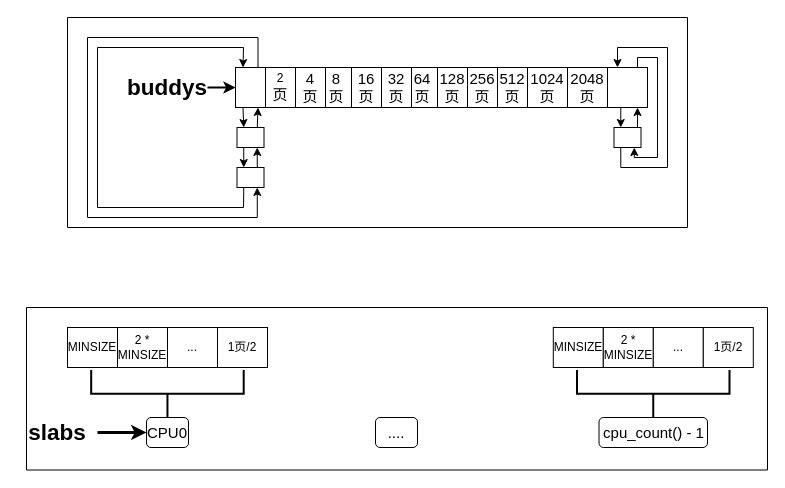
Some shapes in this 785 by 488 pixel diagram are drawn without their labels. The box of each missing label's shape, as (x1, y1, x2, y2) in pixels:
1 页: (234, 66, 266, 108)
4096页: (606, 66, 648, 108)
